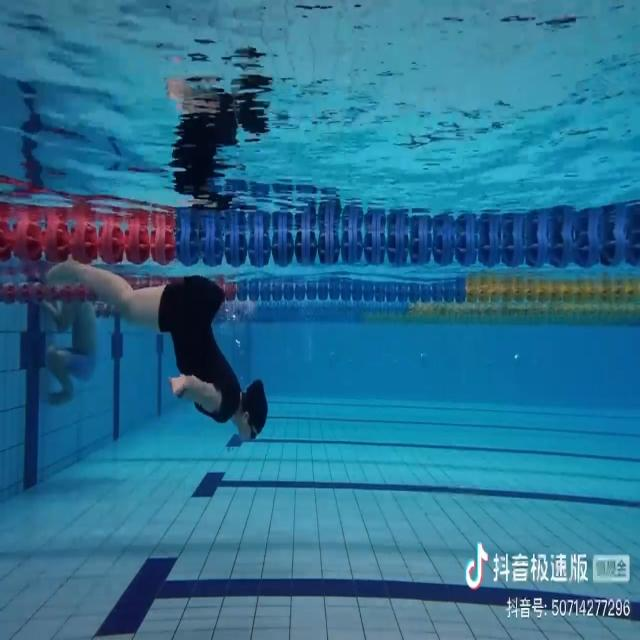Swimming: (45, 258, 269, 452), (43, 266, 101, 409)
